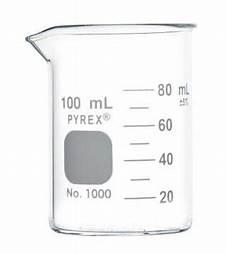Beaker: (16, 14, 198, 241)
